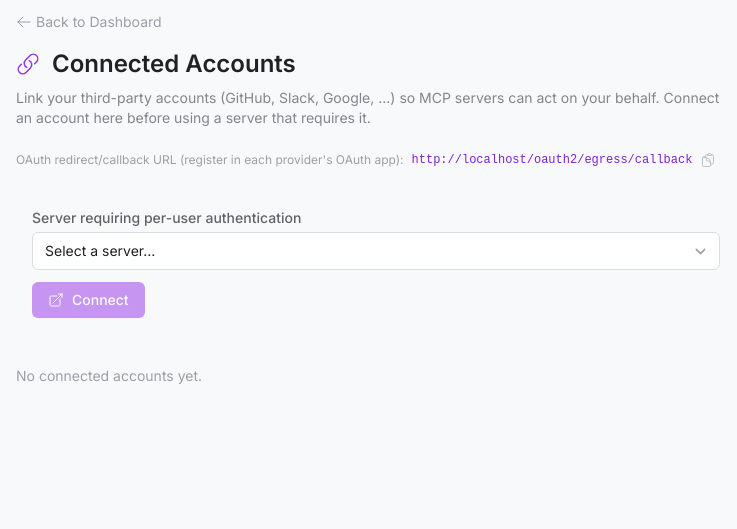
Test: ConnectedAccountsPage › shows the submit-token form (not Connect) for a pat server
This screenshot has width=737, height=529.
Check: the text "No connected accounts yet." is shown, box [16,367,202,384]
Select "GitHub MCP (github) — /github-mcp" in the dropdown labelled "Server requiring per-user authentication": (376, 251) [32,232,720,270]
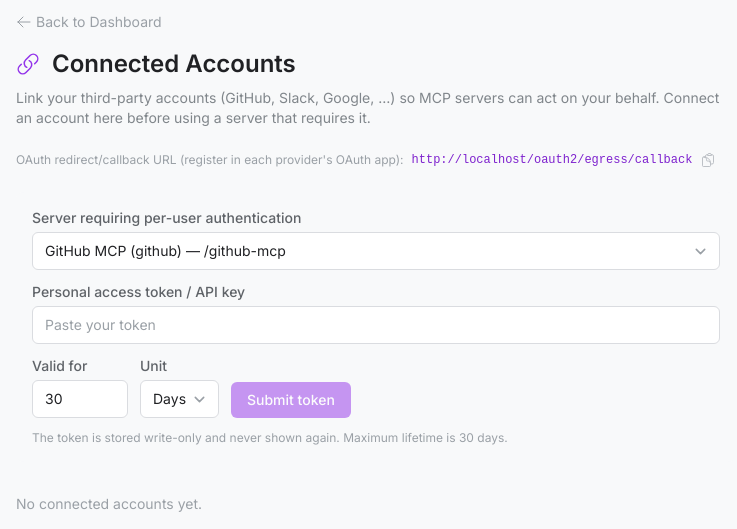
Check: the password field labelled "Personal access token / API key" is shown, box [32,306,720,344]
Check: the button "Submit token" is shown, box [231,382,351,418]
